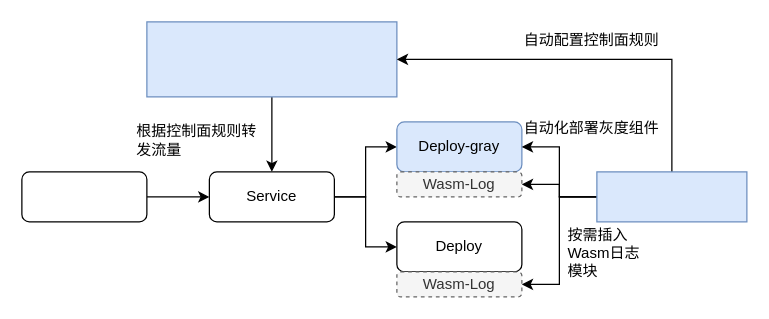
This 769x319 diagram has some shape labels left out. Each missing label, with the centre of its shape:
"ALLInOne" goes at pixel 671 196.
"istio-gateway" goes at pixel 84 196.
"istio控制面（Destination&VirtualService）" goes at pixel 271 59.
